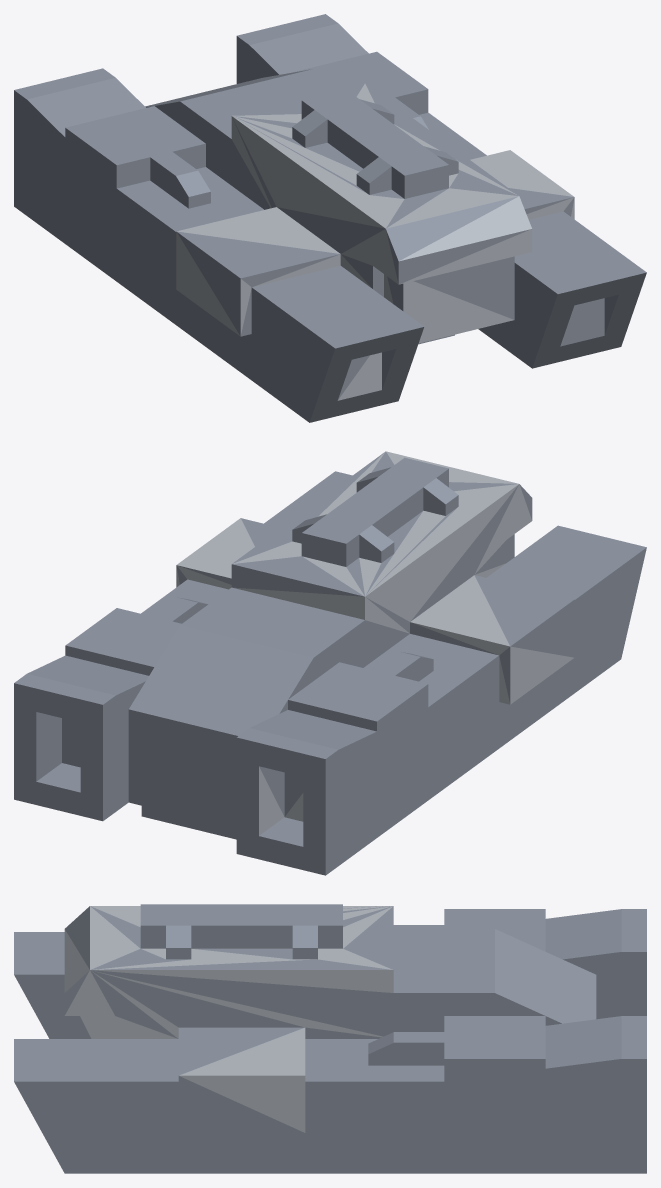
File: bomber.glb
3 views of the same model, one above another, from view 1: azimuth 30°, elevation 25°; view 2: azimuth 150°, elevation 25°; view 3: azimuth 270°, elevation 25° (orthographic).
Size of the model in its own units: 15 by 9 by 25.
